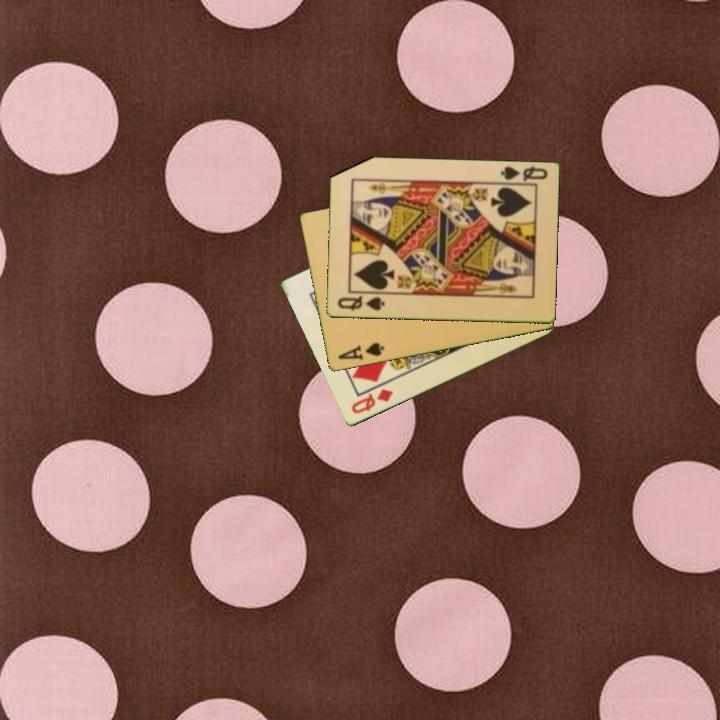As: (334, 339, 387, 363)
Qd: (347, 386, 396, 417)
Qs: (334, 292, 387, 314), (497, 163, 550, 184)
